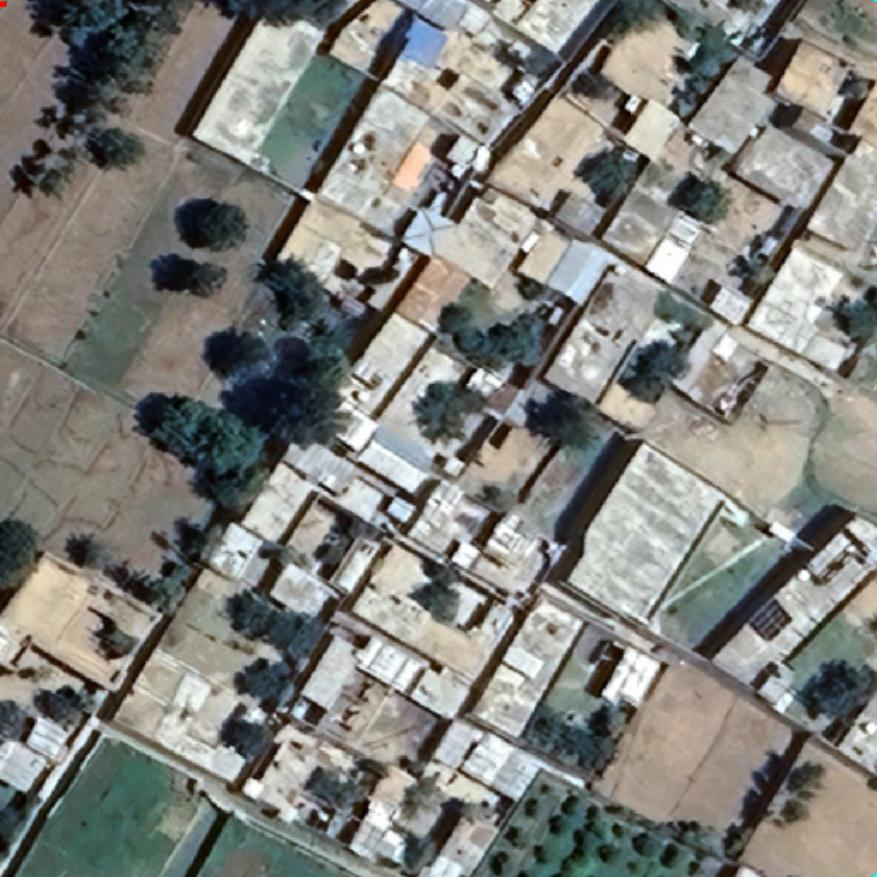Solarpanel: (745, 596, 800, 648)
